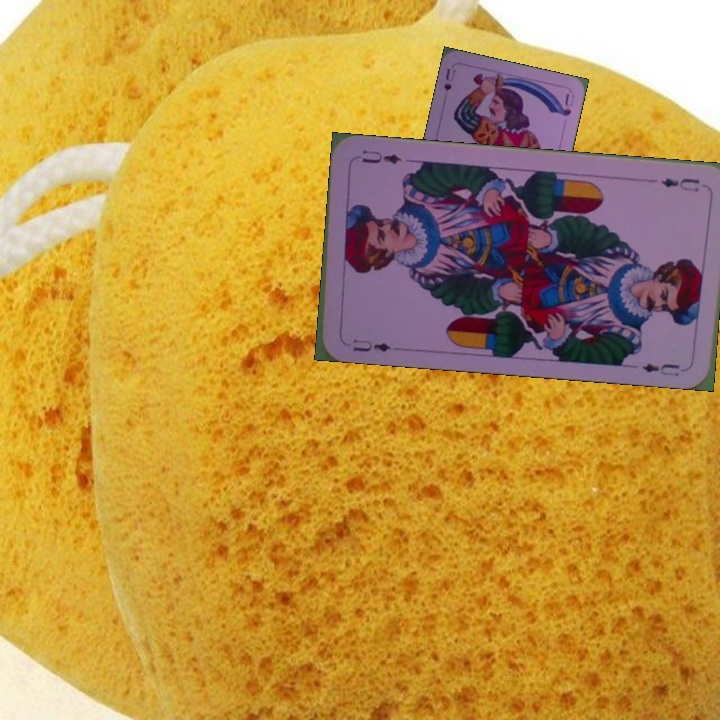EU: (340, 335, 393, 355), (657, 174, 702, 194)
SU: (440, 65, 458, 93)
